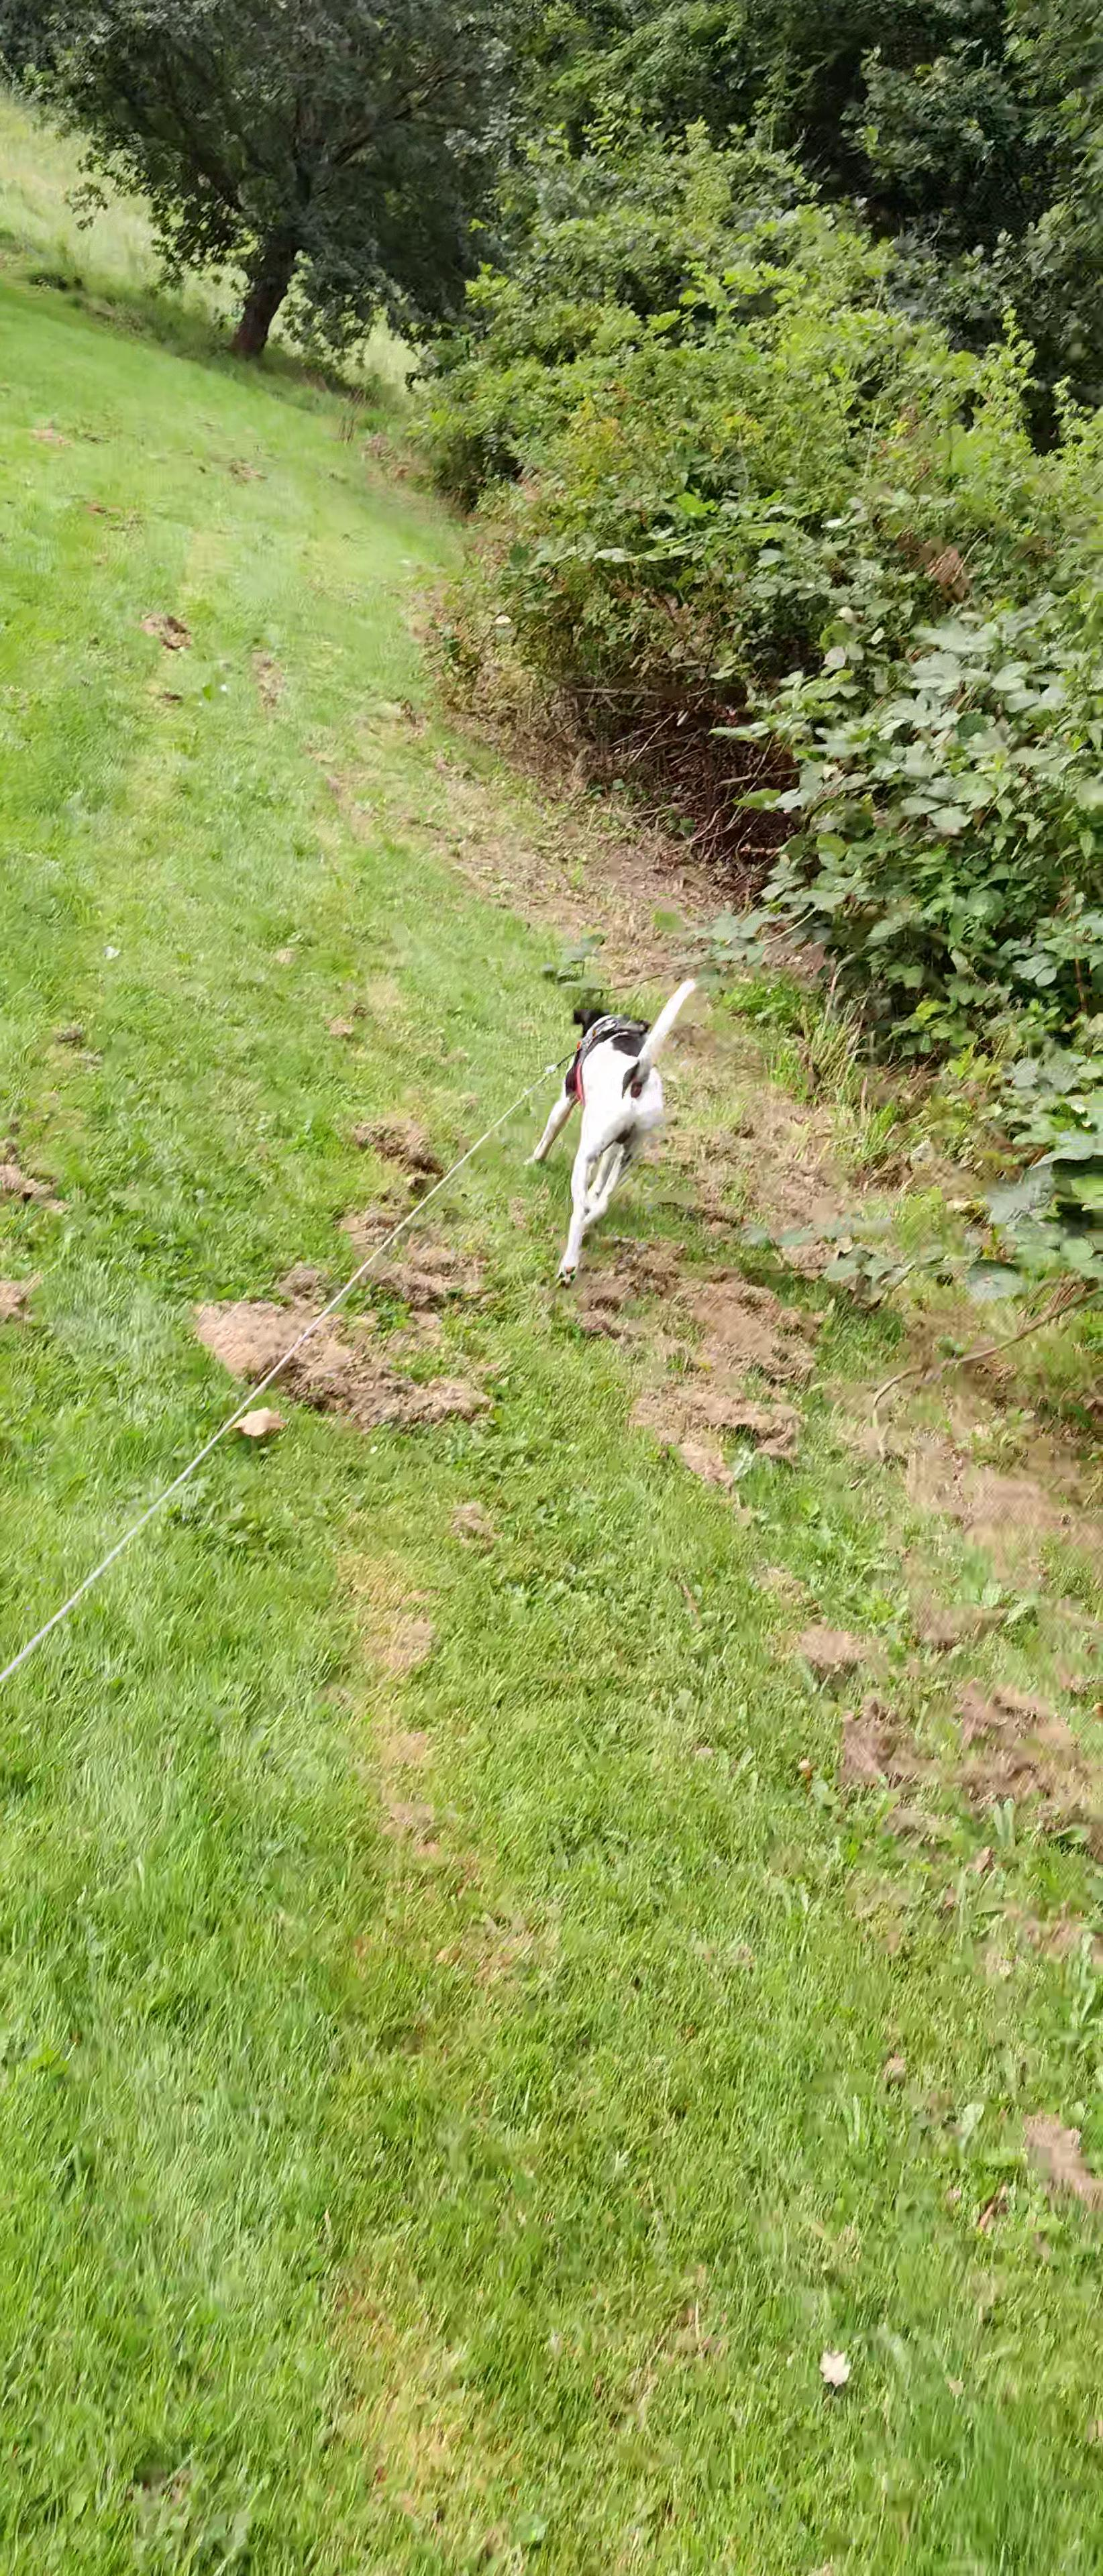Dog: (521, 976, 707, 1295)
